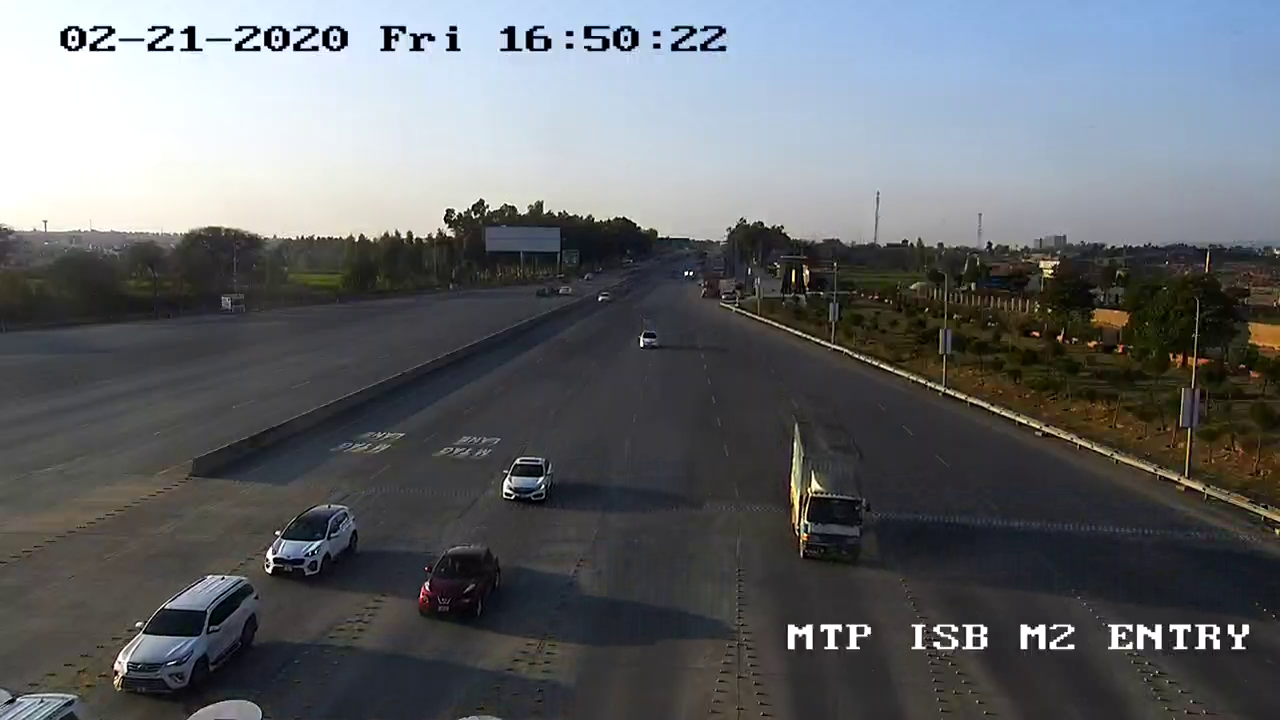f1: (102, 564, 265, 704), (255, 492, 366, 588), (400, 542, 515, 631), (494, 448, 566, 512)
f5: (777, 407, 879, 571)
